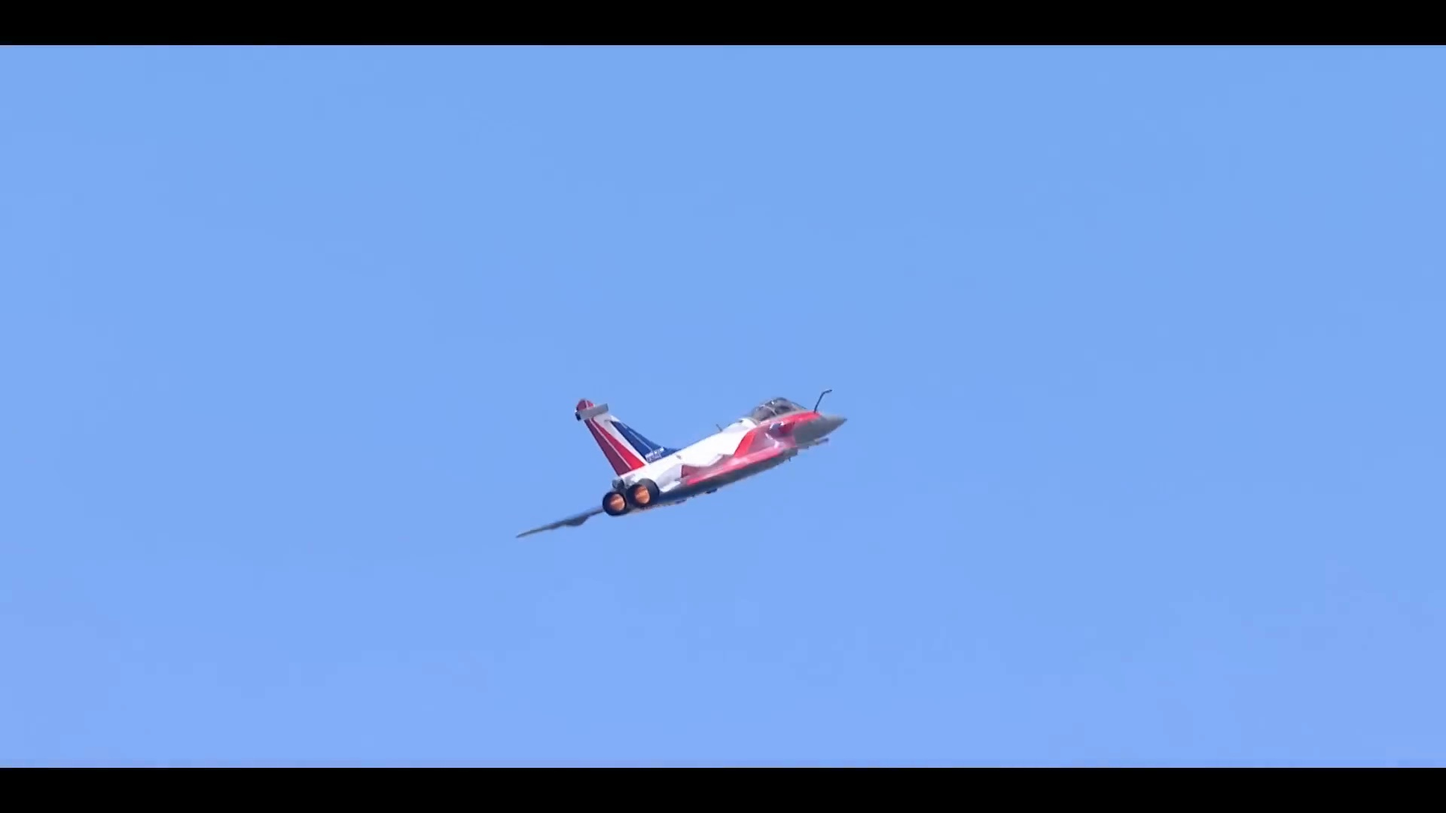Rafale: (510, 386, 854, 541)
